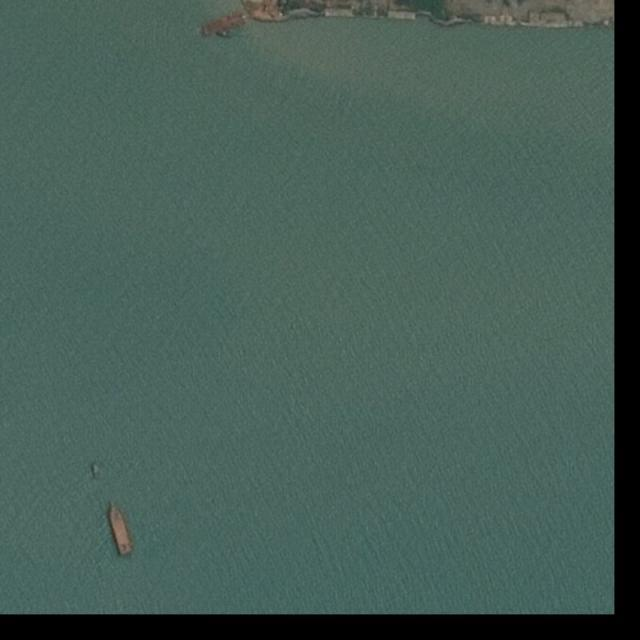ship: (105, 499, 135, 557), (200, 12, 248, 38), (92, 464, 99, 480), (218, 32, 234, 38)
